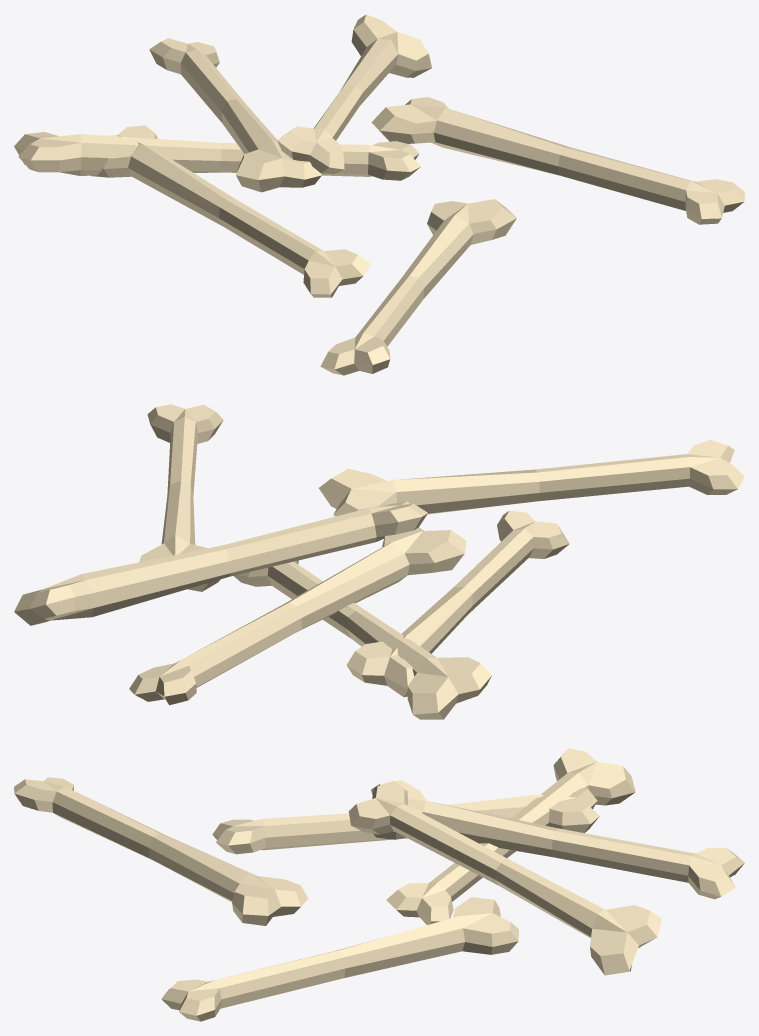
The model's file is Bones-obstacle Variation 2.fbx.
3 renders of one model, top to bottom at view 1: azimuth 30°, elevation 25°; view 2: azimuth 150°, elevation 25°; view 3: azimuth 270°, elevation 25°, orthographic. The views are drawn at different scales.
Visible parts, largest first — view 1: Plane.002; view 2: Plane.002; view 3: Plane.002.
Part boxes in pixels (x1,y1,x2,y2): Plane.002: (14,14,744,375); Plane.002: (14,404,744,719); Plane.002: (14,748,744,1021).
Size of the model in its own units: 1348 by 227 by 1699.
